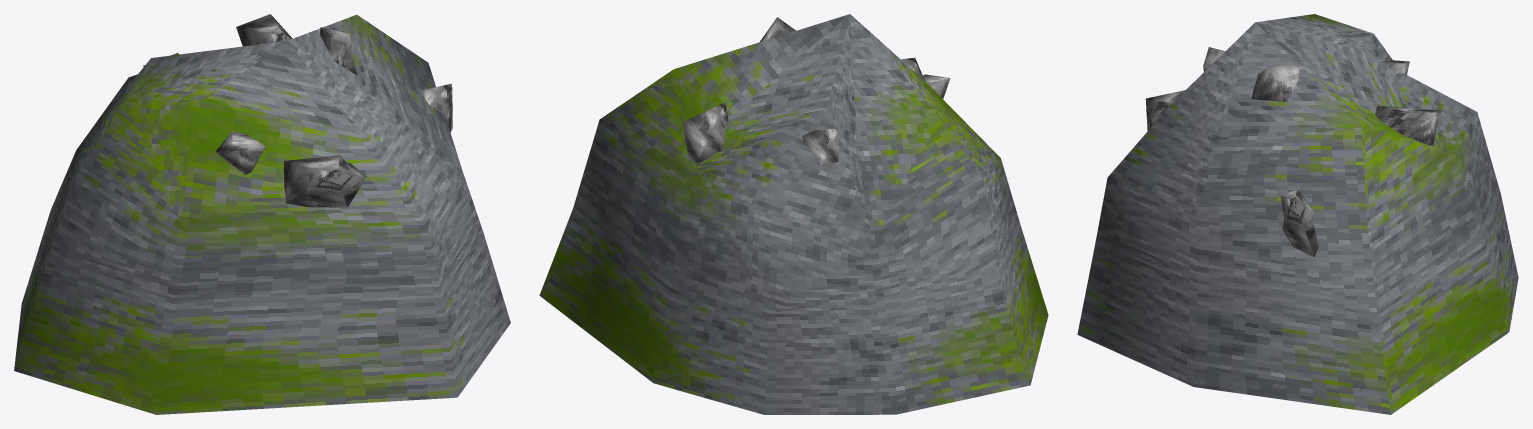
The model's file is goldrock.obj.
The picture shows the model from 3 angles, left to right: view 1: azimuth 30°, elevation 25°; view 2: azimuth 150°, elevation 25°; view 3: azimuth 270°, elevation 25°; orthographic projection. The views are drawn at different scales.
Visible parts, largest first — view 1: Sphere02, Sphere04, Duplicate01, Duplicate03, Duplicate05, Duplicate04; view 2: Sphere02, Duplicate03, Duplicate02; view 3: Sphere02, Duplicate04, Duplicate03, Duplicate05, Sphere04.
Part boxes in pixels (x1,y1,x2,y2): Sphere02: (14,14,510,414); Sphere04: (284,155,366,207); Duplicate01: (215,131,264,174); Duplicate03: (236,14,292,46); Duplicate05: (320,27,357,75); Duplicate04: (420,83,452,132); Sphere02: (539,14,1048,414); Duplicate03: (682,102,728,163); Duplicate02: (802,129,838,166); Sphere02: (1077,14,1518,414); Duplicate04: (1280,189,1318,257); Duplicate03: (1375,106,1439,145); Duplicate05: (1251,64,1299,102); Sphere04: (1145,90,1185,130).
Bounding box in the file's own units: 46.48 × 27.88 × 39.92.
